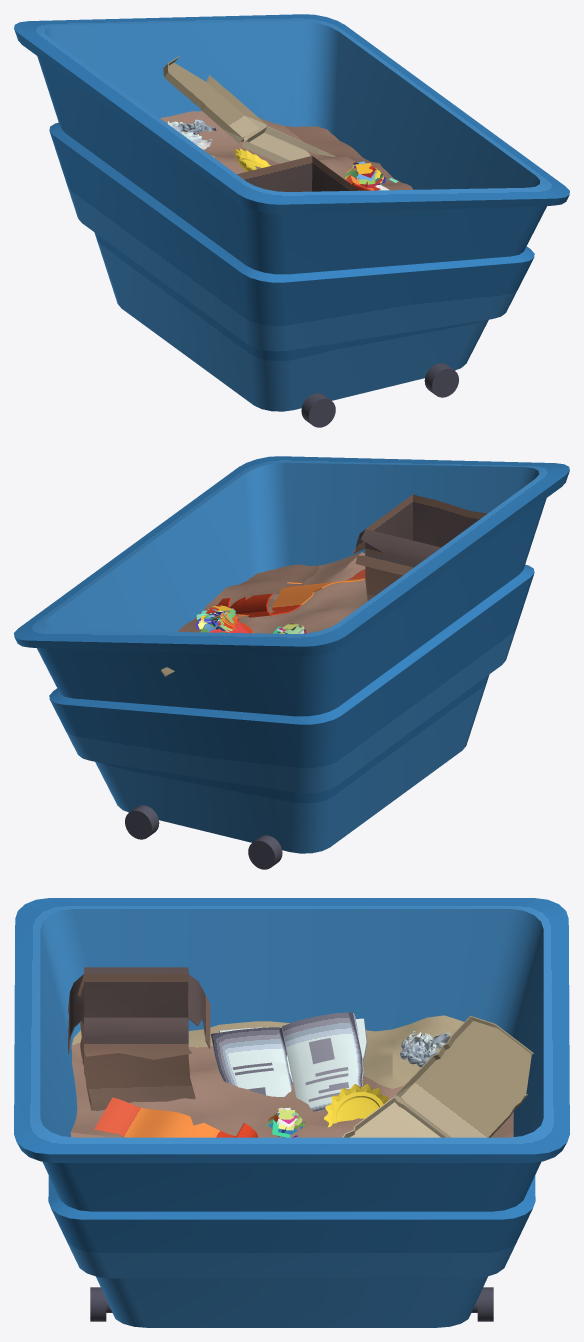
The model's file is separador_Az.fbx.
The picture shows the model from 3 angles, top to bottom: view 1: azimuth 30°, elevation 25°; view 2: azimuth 150°, elevation 25°; view 3: azimuth 270°, elevation 25°; orthographic projection. The views are drawn at different scales.
Visible parts, largest first — view 1: separador_Az; view 2: separador_Az; view 3: separador_Az.
Part boxes in pixels (box(x1,y1,x2,y2)): separador_Az: box(14, 14, 569, 427); separador_Az: box(14, 456, 569, 869); separador_Az: box(14, 898, 569, 1327).
Bounding box in the file's own units: 370 × 293 × 492.
